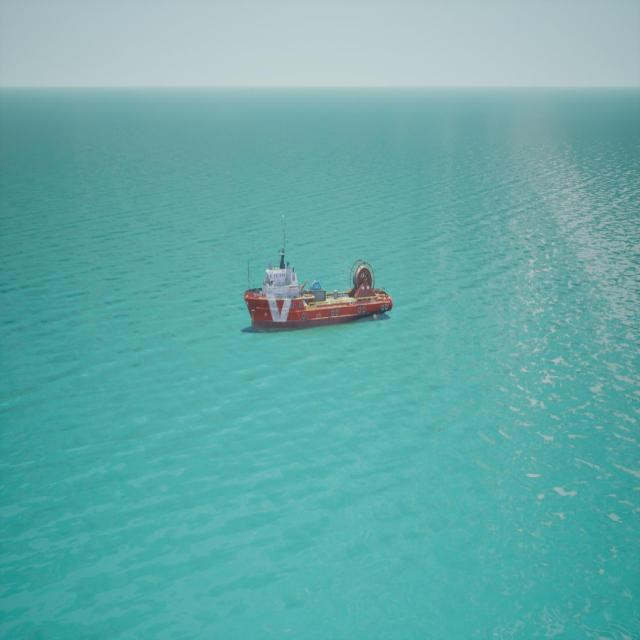tug boat: (241, 217, 393, 339)
